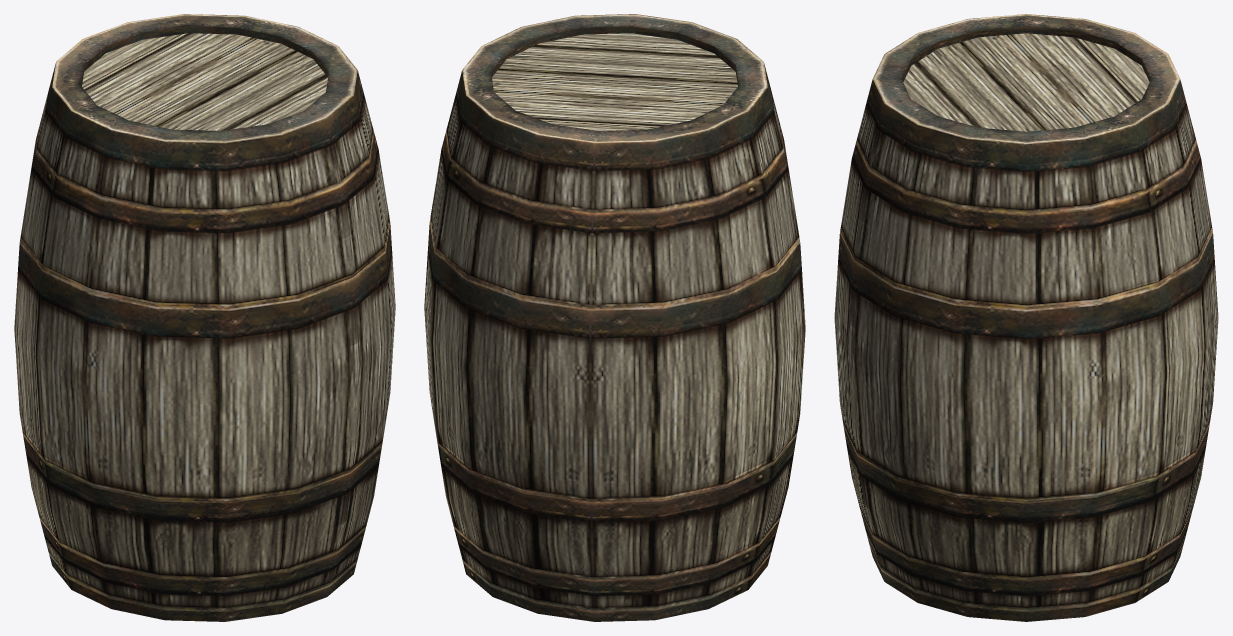
The model's file is Barrel.FBX.
3 renders of one model, left to right at view 1: azimuth 30°, elevation 25°; view 2: azimuth 150°, elevation 25°; view 3: azimuth 270°, elevation 25°, orthographic.
Parts seen in each view (by area): view 1: Barrel; view 2: Barrel; view 3: Barrel.
Part boxes in pixels (x1=…): Barrel: x1=14, y1=14, x2=395, y2=621; Barrel: x1=424, y1=14, x2=805, y2=621; Barrel: x1=834, y1=14, x2=1218, y2=621.
Bounding box in the file's own units: 111 × 152 × 111.
